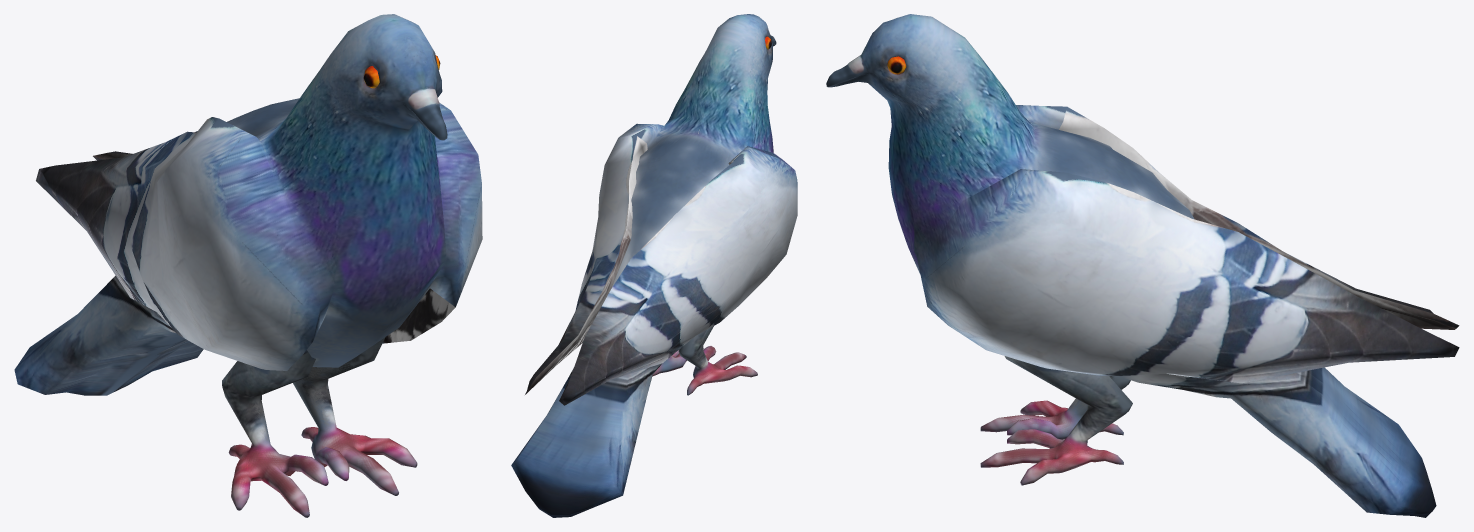
Rendered from ping.fbx.
3 renders of one model, left to right at view 1: azimuth 30°, elevation 25°; view 2: azimuth 150°, elevation 25°; view 3: azimuth 270°, elevation 25°, orthographic. The views are drawn at different scales.
Parts seen in each view (by area): view 1: pigeon_Cube.001; view 2: pigeon_Cube.001; view 3: pigeon_Cube.001.
Part boxes in pixels (x1,y1,x2,y2): pigeon_Cube.001: [14, 14, 482, 517]; pigeon_Cube.001: [511, 14, 797, 517]; pigeon_Cube.001: [826, 14, 1459, 517].
Size of the model in its own units: 580 by 1230 by 1424.
